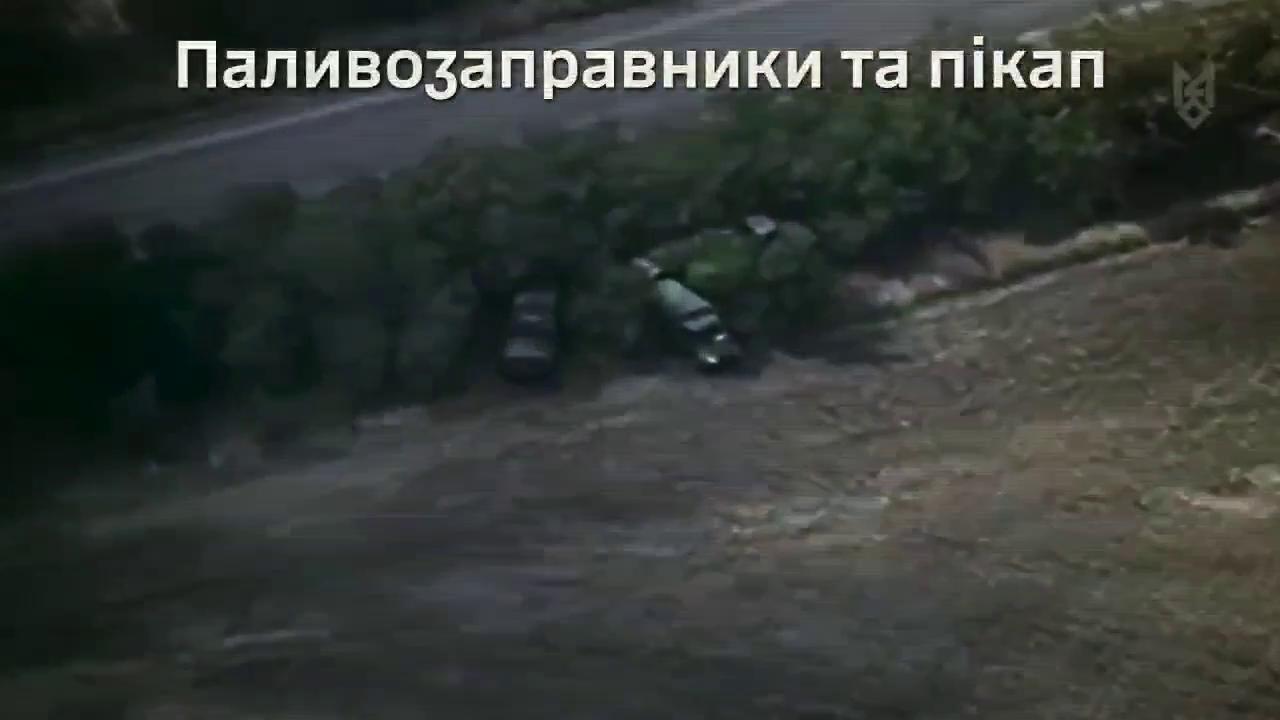tank: (628, 214, 822, 294), (638, 275, 744, 373), (503, 288, 567, 380)
